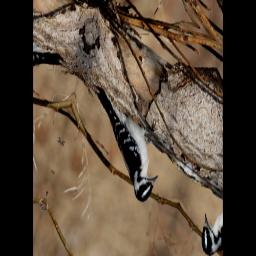Woodpecker: (76, 73, 171, 210)
